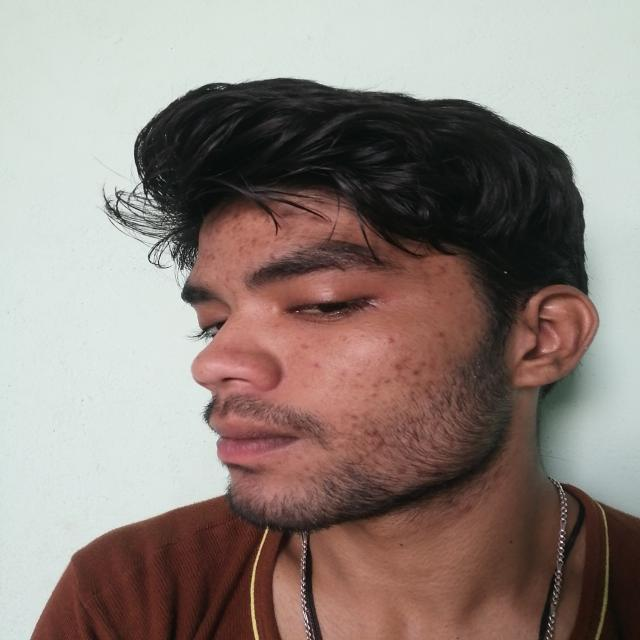Acne: (407, 356, 436, 378), (231, 235, 258, 258), (224, 212, 255, 231), (434, 264, 461, 282), (372, 378, 398, 394), (200, 252, 229, 266), (213, 270, 235, 287), (353, 364, 372, 383), (429, 331, 454, 345), (326, 384, 351, 398), (422, 289, 440, 306), (442, 288, 461, 304), (345, 411, 364, 426), (202, 230, 224, 242), (380, 335, 400, 348), (388, 362, 406, 376), (269, 457, 288, 470), (261, 248, 280, 260), (335, 369, 351, 382), (339, 335, 356, 347), (267, 321, 284, 333), (314, 360, 326, 376), (297, 341, 308, 353)
Englarged-Pores: (312, 345, 385, 372)
